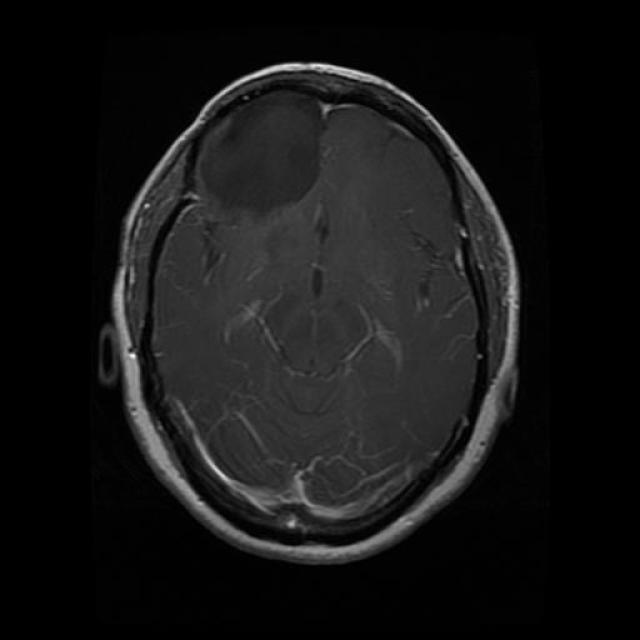glioma: (195, 97, 333, 220)
